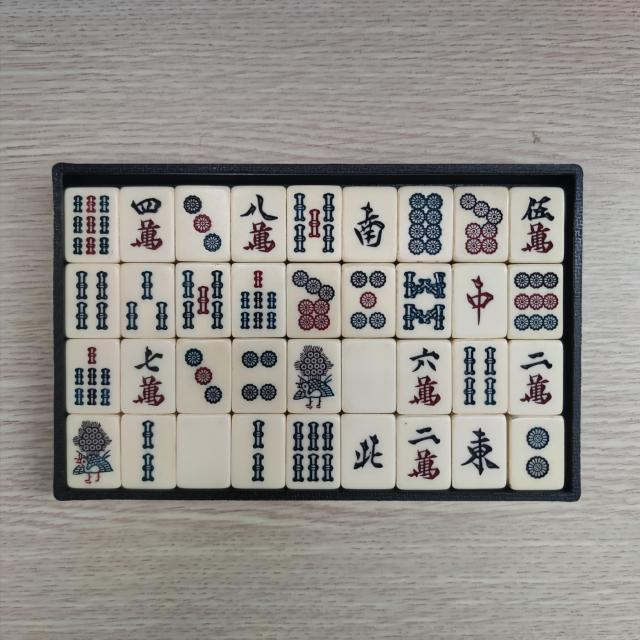hdr: (460, 268, 502, 334)
hdw: (346, 343, 392, 408), (183, 419, 225, 482)
hwe: (456, 422, 501, 485)
hwn: (347, 418, 390, 482)
hws: (346, 192, 392, 258)
sb1: (292, 344, 338, 412), (72, 420, 118, 487)
sb2: (236, 418, 280, 486), (126, 418, 170, 485)
sb3: (125, 268, 172, 334)
sb4: (70, 267, 114, 334), (457, 344, 501, 410)
sb5: (291, 190, 337, 258), (182, 268, 229, 334)
sb6: (294, 417, 338, 483)
sb7: (237, 266, 283, 332), (72, 345, 116, 410)
sb8: (401, 268, 449, 334)
sb9: (70, 192, 114, 259)
sc2: (514, 346, 557, 411), (403, 422, 446, 486)
sc4: (124, 192, 170, 257)
sc5: (515, 191, 559, 257)
sc6: (402, 344, 446, 409)
sc7: (126, 342, 170, 409)
sc8: (233, 190, 280, 256)
sd2: (516, 423, 560, 487)
sd3: (182, 343, 228, 409), (181, 189, 226, 256)
sd4: (238, 344, 284, 410)
sd5: (346, 267, 390, 332)
sd7: (291, 268, 338, 336), (458, 191, 504, 257)
sd8: (404, 191, 448, 257)
sd9: (514, 269, 561, 334)
